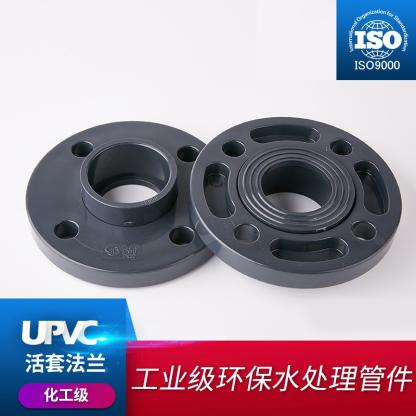FOD: (183, 112, 405, 294), (23, 112, 240, 291)
